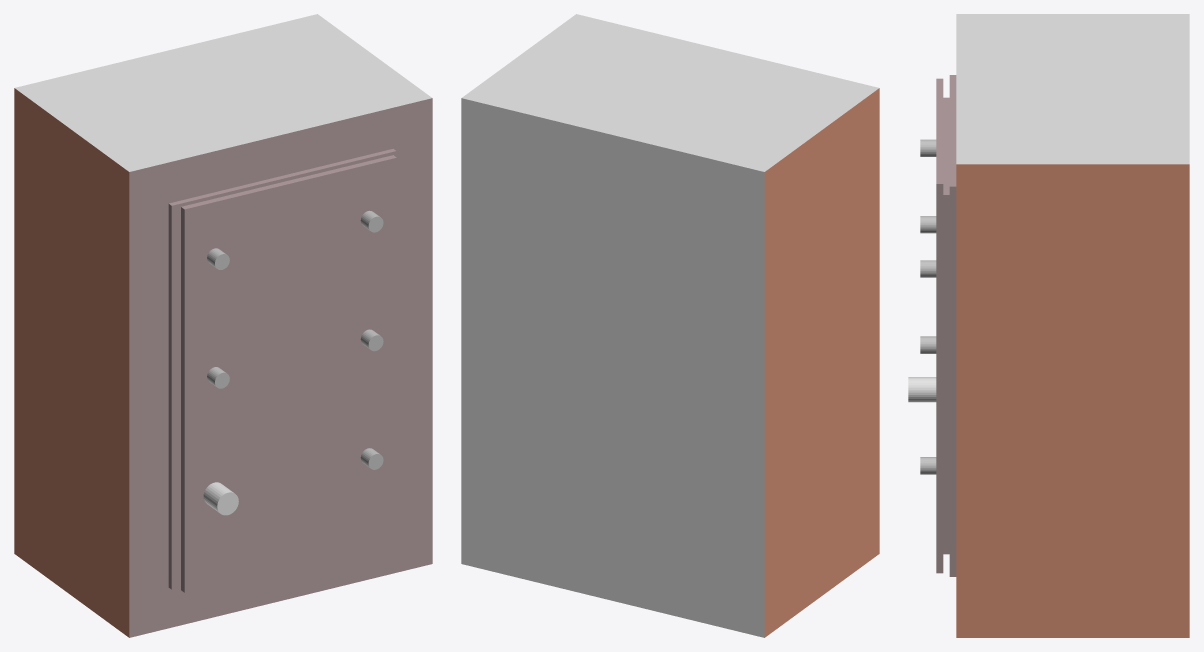
Rendered from theat.glb.
The picture shows the model from 3 angles, left to right: view 1: azimuth 30°, elevation 25°; view 2: azimuth 150°, elevation 25°; view 3: azimuth 270°, elevation 25°; orthographic projection.
Parts seen in each view (by area): view 1: Plane.002, Plane.004, Plane.003, Cylinder.002; view 2: Plane.007, Plane.004, Plane.003; view 3: Plane.006, Plane.003, Plane.002, Cylinder.002.
Boxes of the visible parts, x1,y1,x2,y2 form: Plane.002: [129, 98, 432, 637]; Plane.004: [14, 88, 129, 637]; Plane.003: [15, 14, 431, 171]; Cylinder.002: [203, 482, 238, 515]; Plane.007: [461, 98, 764, 637]; Plane.004: [764, 88, 879, 637]; Plane.003: [462, 14, 878, 171]; Plane.006: [956, 164, 1189, 637]; Plane.003: [956, 14, 1189, 164]; Plane.002: [920, 75, 956, 576]; Cylinder.002: [908, 377, 936, 402].
Bounding box in the file's own units: 4.57 × 6.71 × 3.62.
